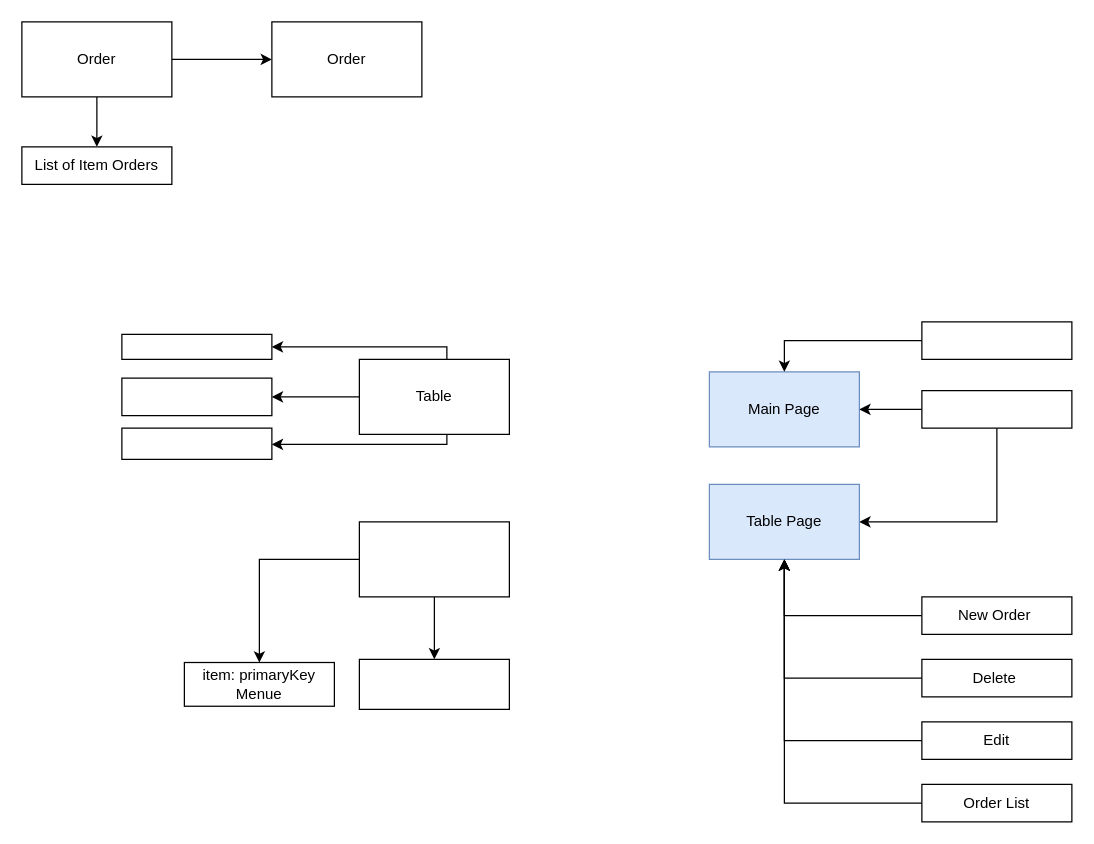
The diagram is 1094 pixels wide and 844 high, and some of its shapes have lost their labels. The centre of each missing label's shape, as x and y in pixels:
Header: point 996,340
Id: point 196,443
Item: point 433,559
key: point 196,346
List of Orders: point 196,396
Tables: point 996,408
